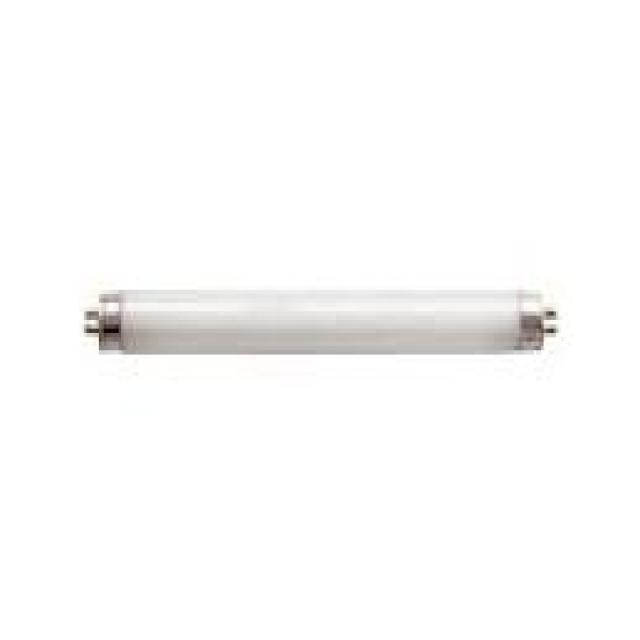tubelight_off: (82, 286, 560, 362)
